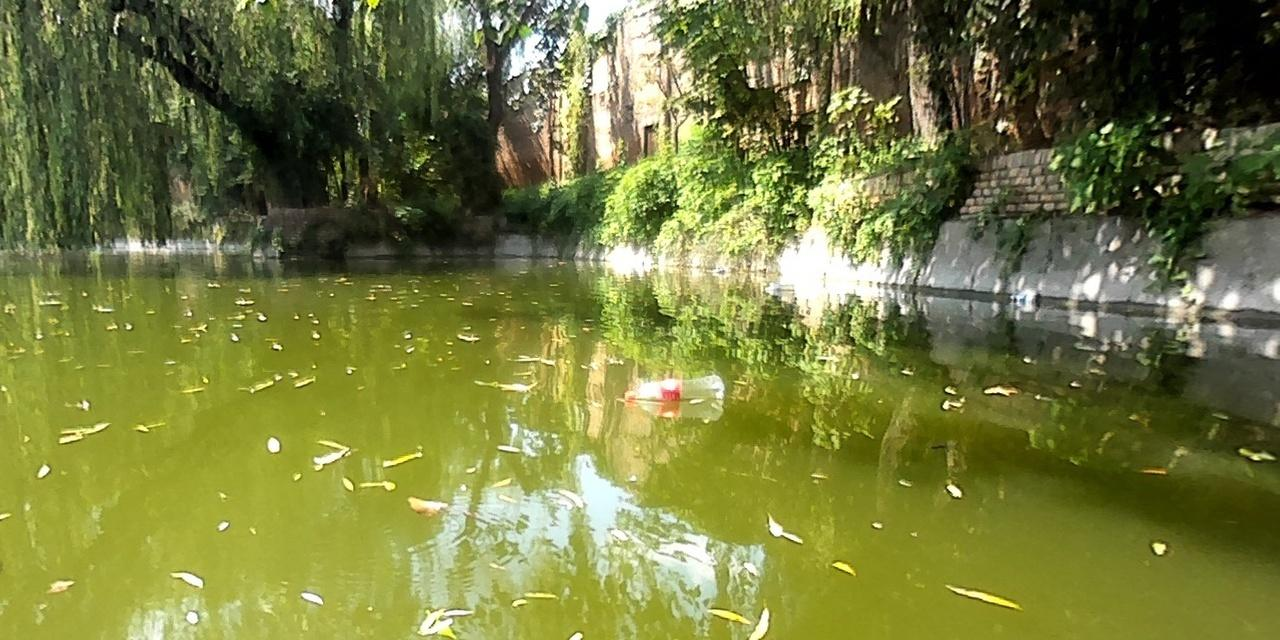bottle: (620, 372, 727, 406)
